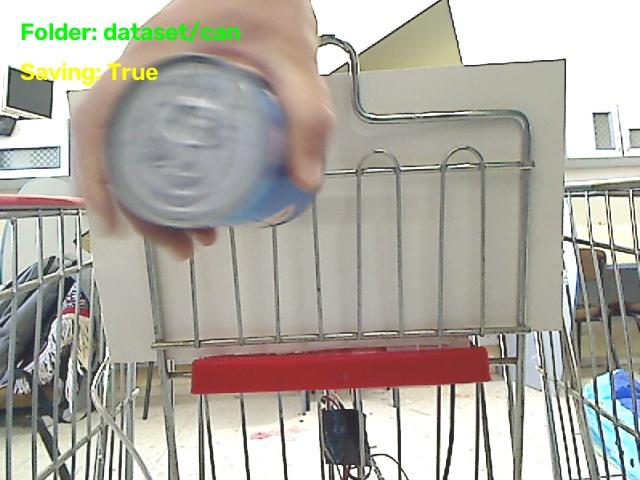can: (108, 54, 313, 228)
